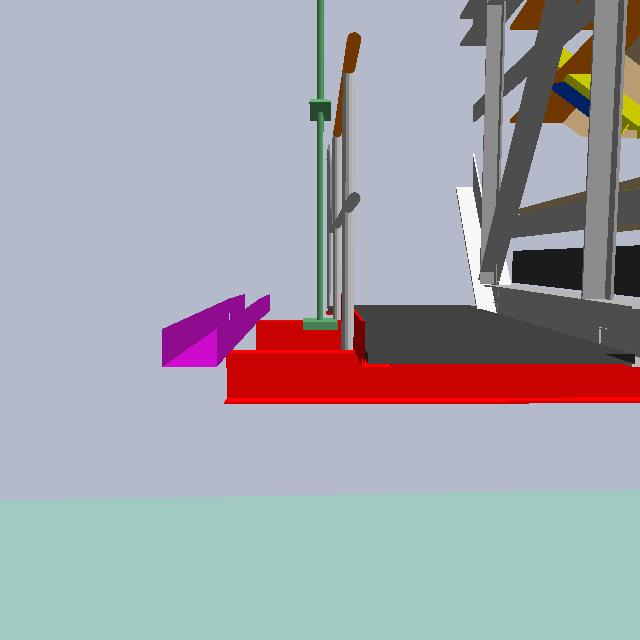Poste: (315, 1, 325, 332)
